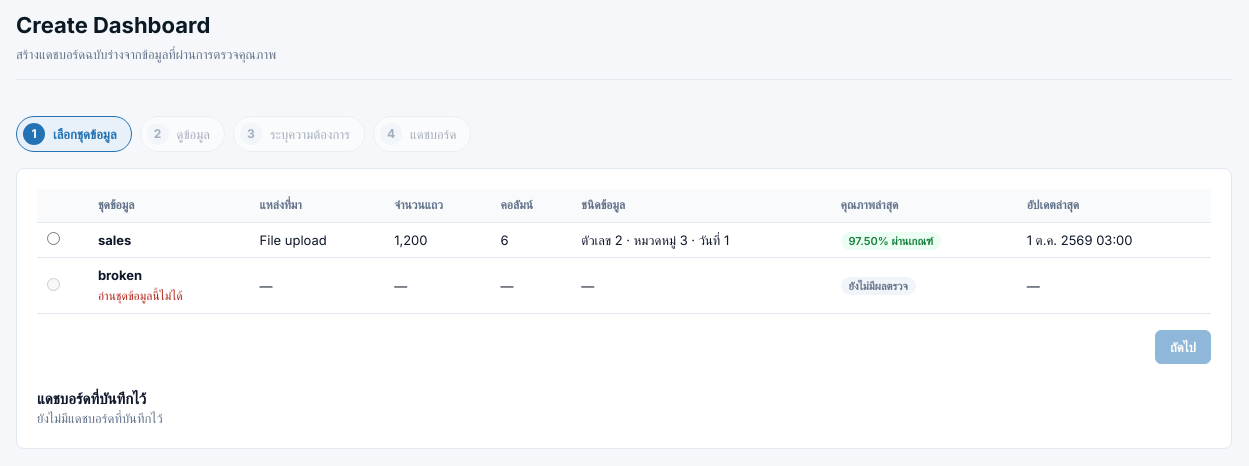
enables the next step only after a readable dataset is chosen
Expected: the button "ถัดไป" is disabled, [1155, 330, 1211, 364]
Expected: the radio button named "เลือก broken" is disabled, [47, 278, 60, 291]
What coordinates should you click on to do the following:
click the radio button named "เลือก sales"
I would click on:
 (54, 238)
Its box is [47, 232, 60, 245].
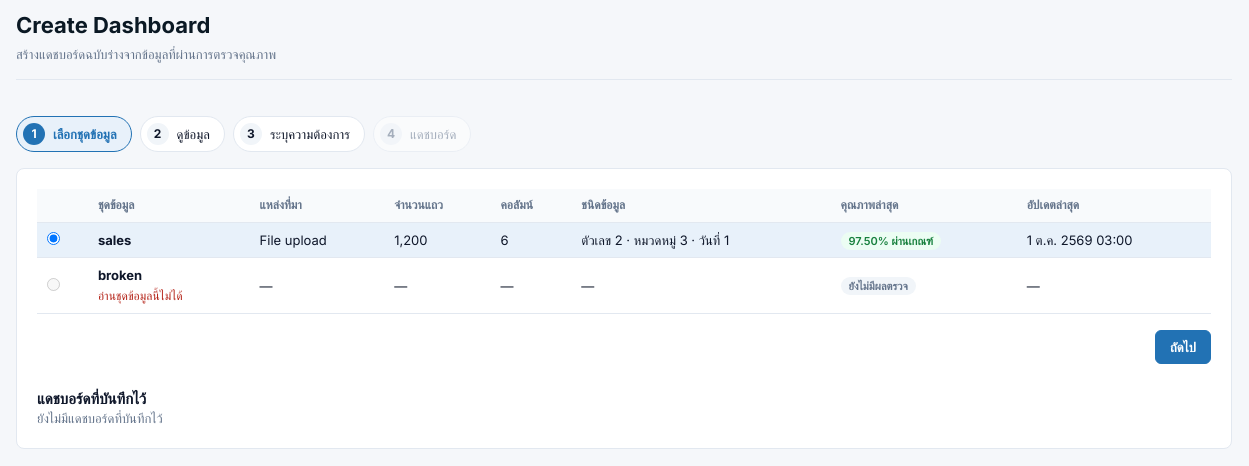
Expected: the button "ถัดไป" is enabled, [1155, 330, 1211, 364]
